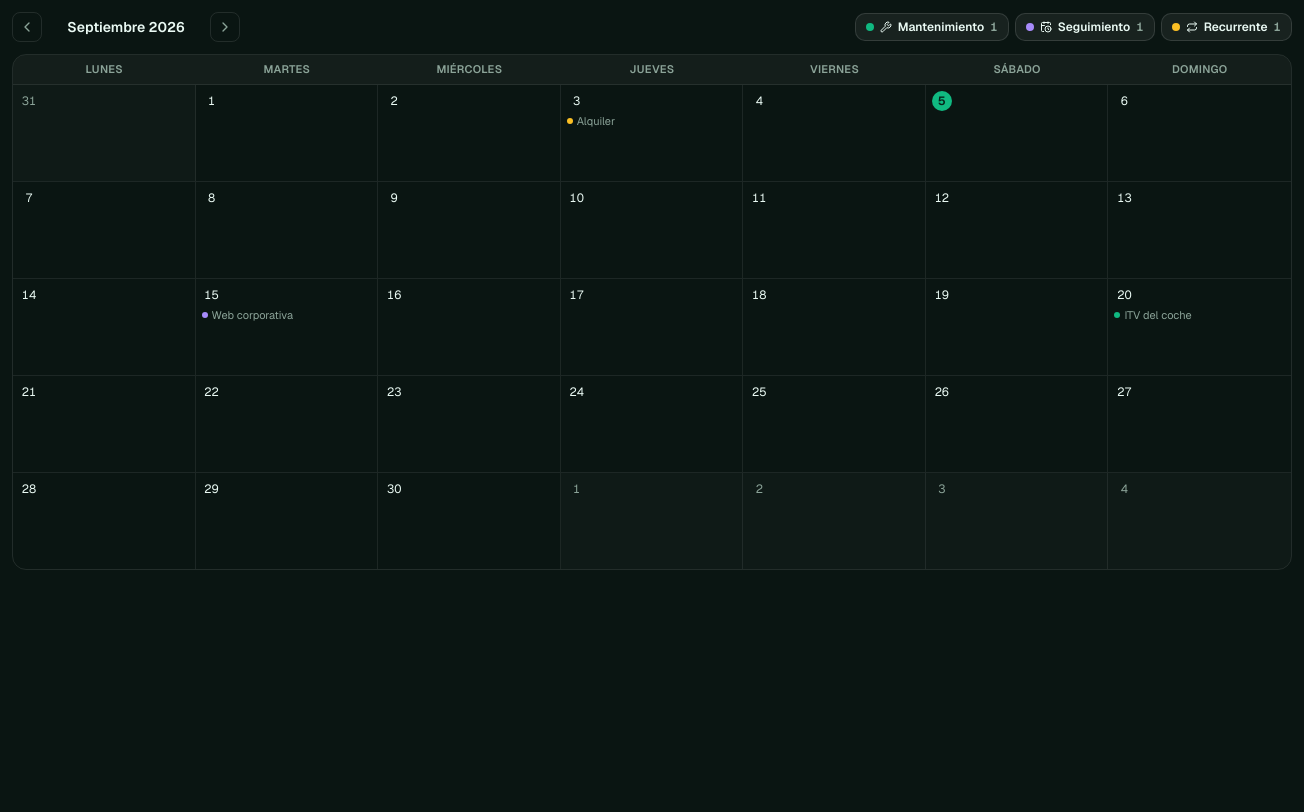
Test: Calendario › navega de mes y «Hoy» solo aparece fuera del mes en curso
Check: the text "Hoy" is not shown
Click the button named "Mes siguiente" at (225, 27), box [210, 12, 240, 42]
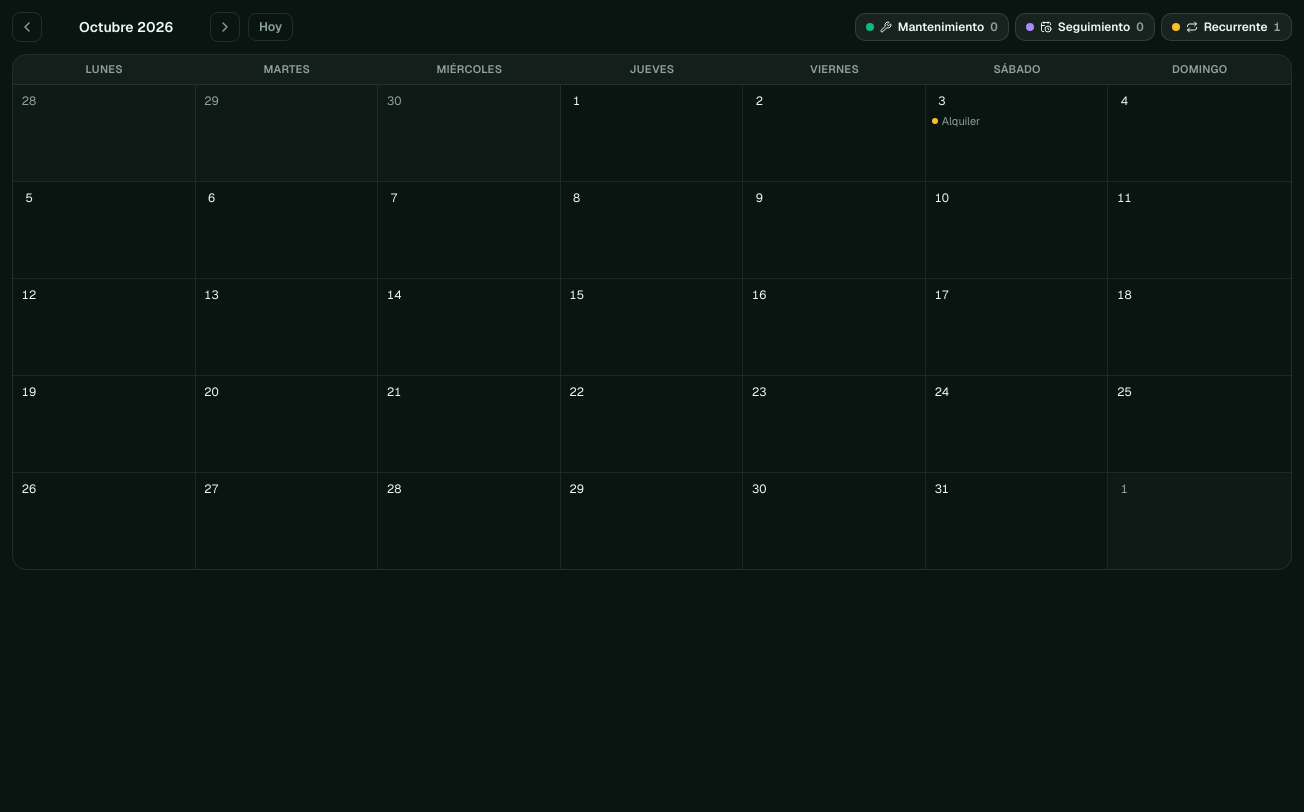
Check: the text "Octubre 2026" is shown, box [79, 18, 173, 36]
Click the button "Hoy" at (271, 27), box [248, 13, 293, 41]
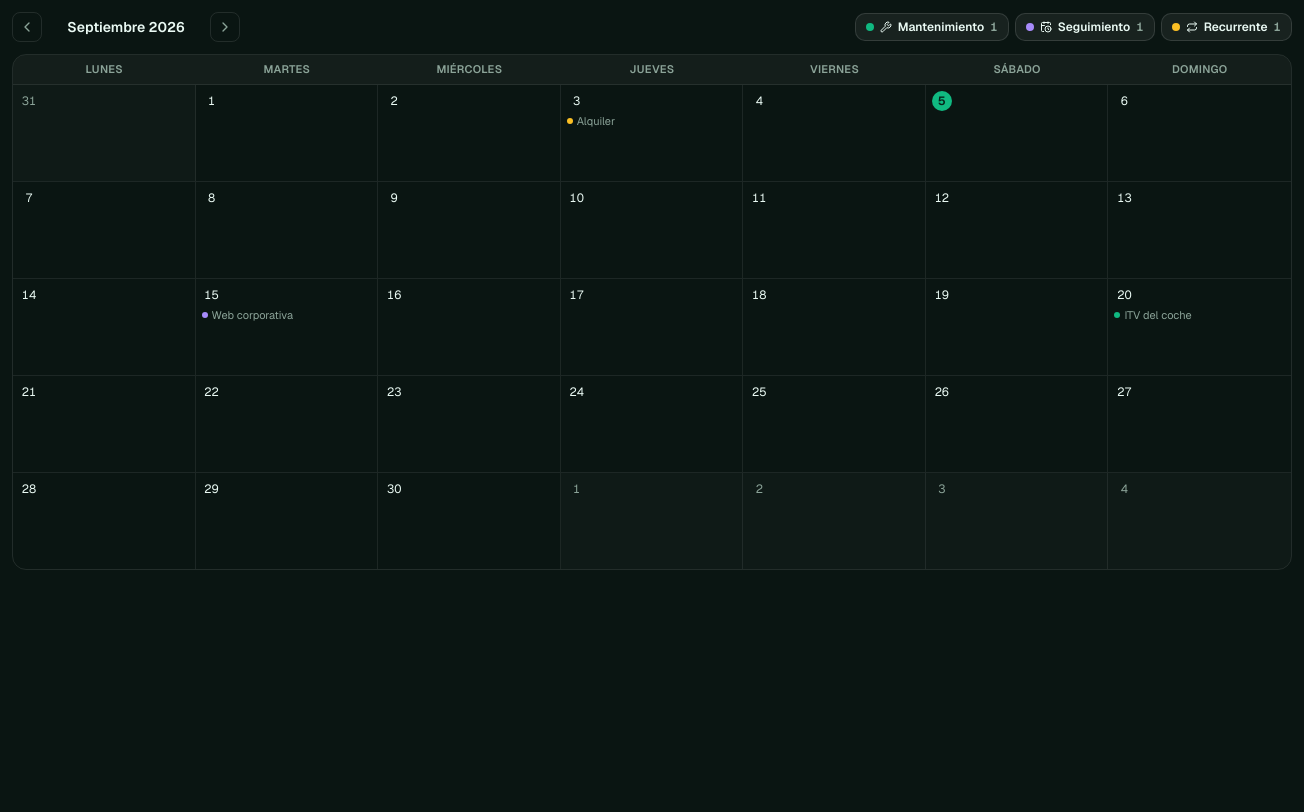
Check: the text "Septiembre 2026" is shown, box [67, 18, 185, 36]
Click the button named "Mes anterior" at (27, 27), box [12, 12, 42, 42]
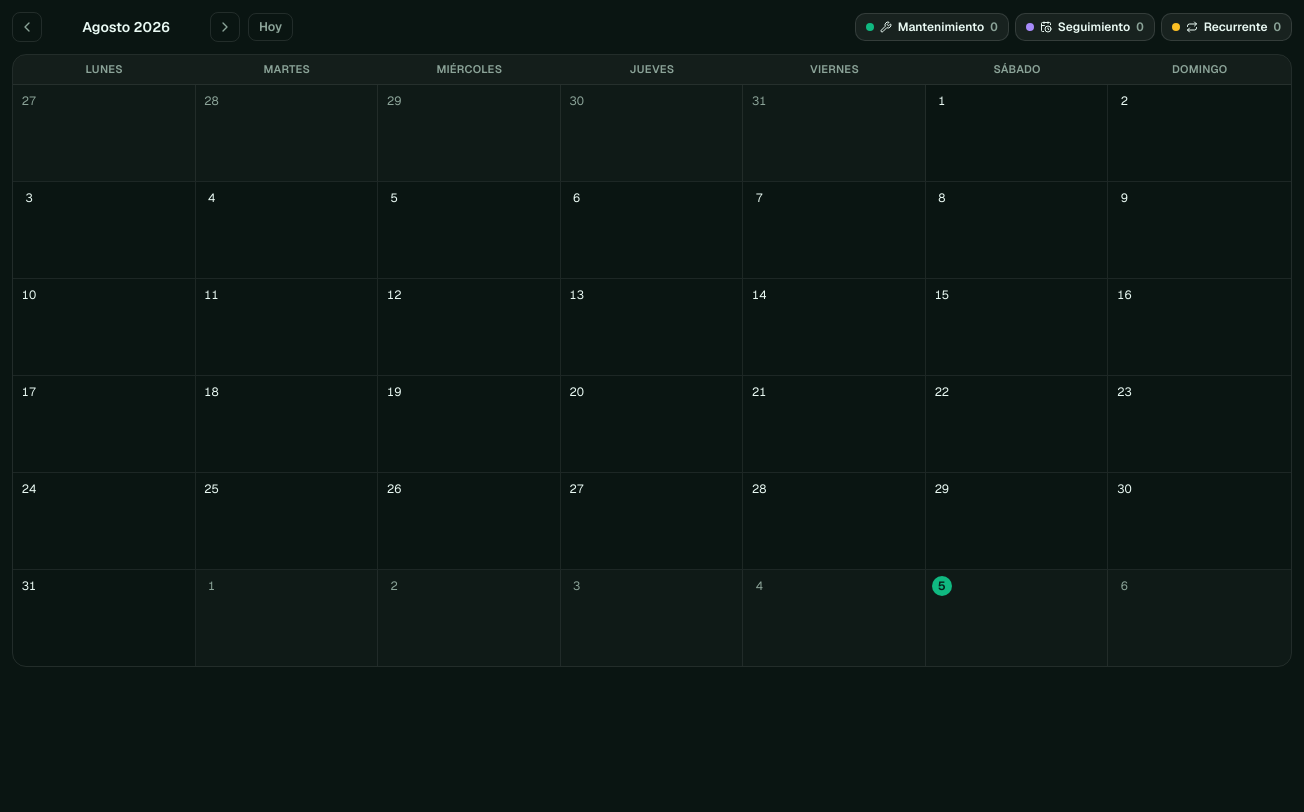
Check: the text "Agosto 2026" is shown, box [82, 18, 170, 36]
